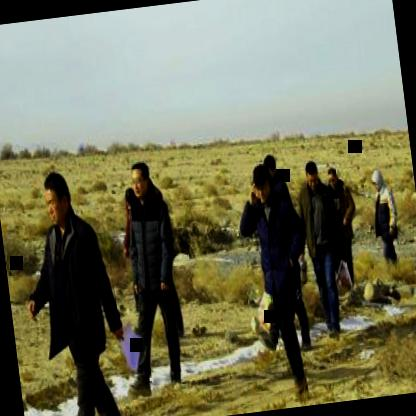head: (38, 168, 76, 230), (126, 154, 156, 202), (248, 161, 276, 207), (300, 155, 320, 192), (262, 147, 280, 182), (325, 162, 339, 190)
